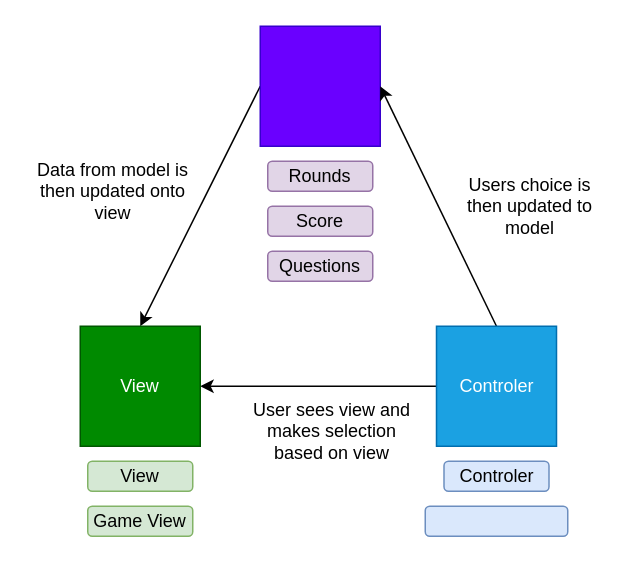
Image size: 630x563. Some labels were removed from this diagram. Here are the shapes that lost their labels. From the top down, the centre of each, then its label:
the point at 319,85: Model
the point at 496,520: Game Controller
